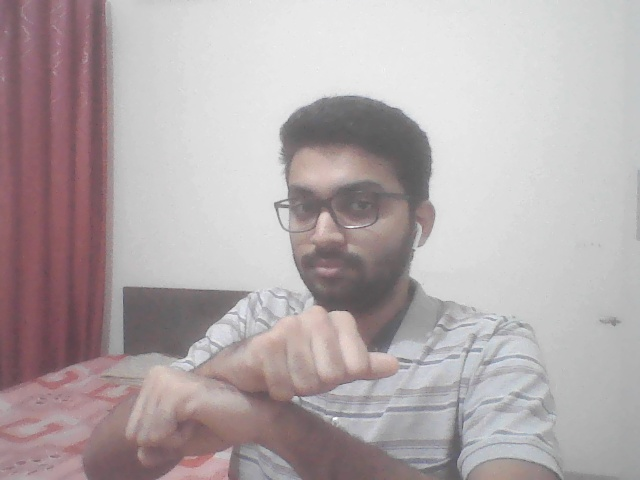work: (96, 293, 396, 477)
